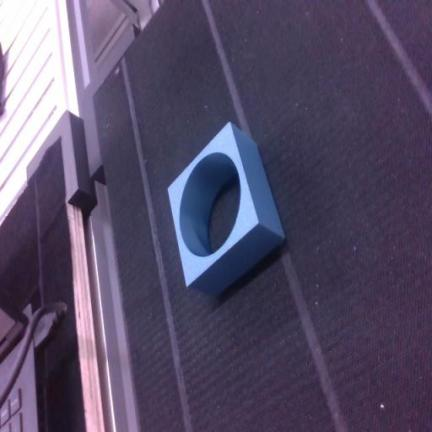square: (168, 122, 284, 294)
